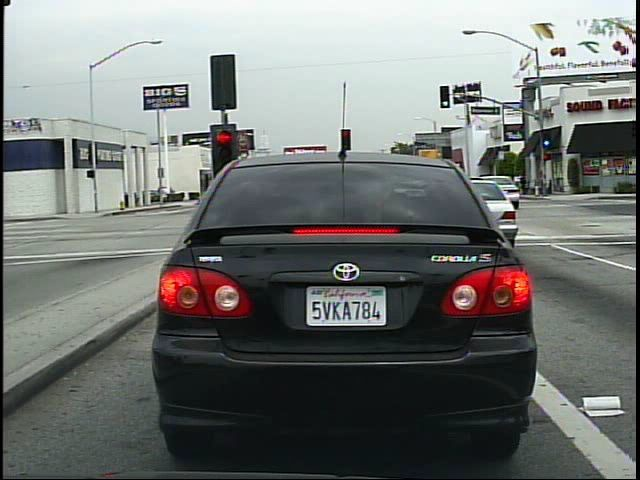person: (516, 169, 531, 202), (164, 179, 165, 208)
